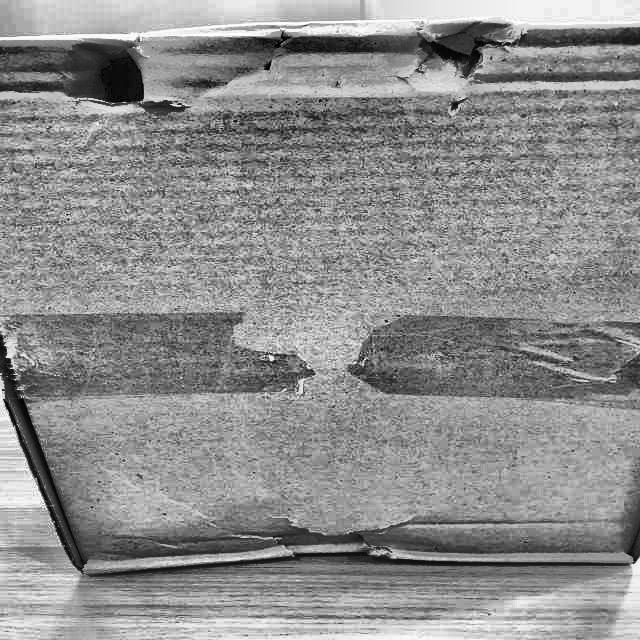box: (0, 17, 639, 579)
hole: (403, 11, 541, 109), (58, 27, 184, 116)
